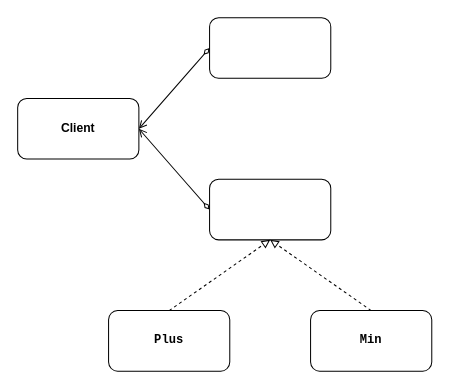
Image size: 449x389. Some labels were removed from this diagram. The shapes that lost their labels are listed below. From the top down, each one's box as (x1, y1, x2, y2) in pixels, then its label:
(209, 17, 331, 78): Context
(209, 178, 331, 240): Expression
